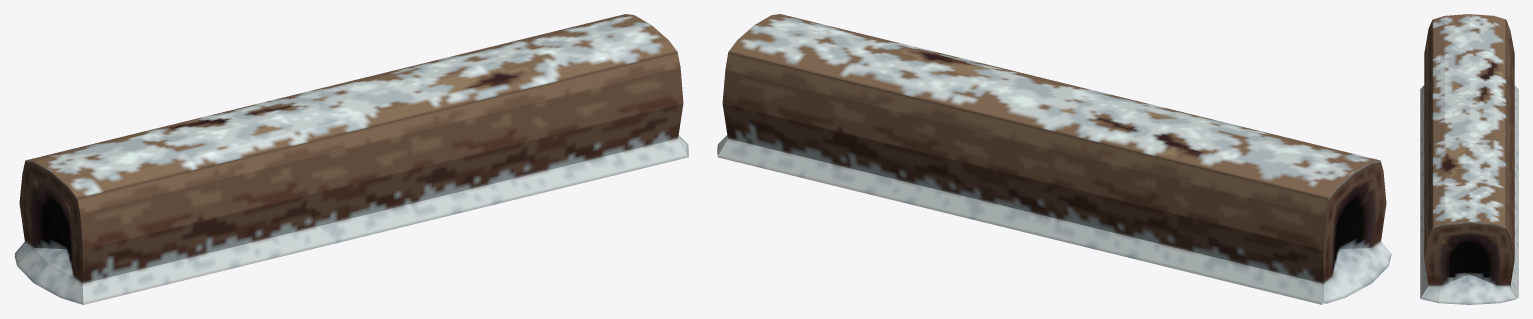
Rendered from long_long_trunk.fbx.
The picture shows the model from 3 angles, left to right: view 1: azimuth 30°, elevation 25°; view 2: azimuth 150°, elevation 25°; view 3: azimuth 270°, elevation 25°; orthographic projection. The views are drawn at different scales.
Parts seen in each view (by area): view 1: cube; view 2: cube; view 3: cube.
Boxes of the visible parts, bbox=[...] form: cube: bbox=[14, 14, 688, 304]; cube: bbox=[717, 14, 1391, 304]; cube: bbox=[1420, 14, 1518, 304].
Size of the model in its own units: 1594 by 256 by 300.
Materials: 1 (1 with a texture image).
